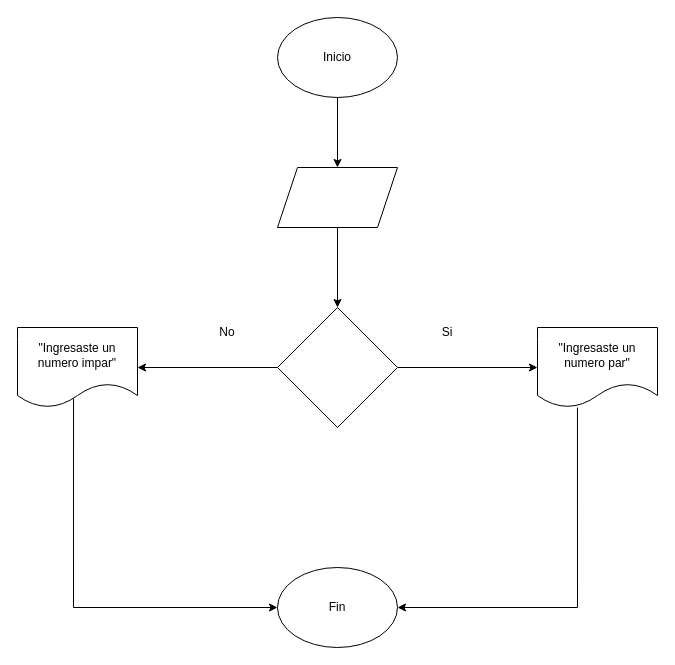
Some shapes in this 675 by 665 pixel diagram are drawn without their labels. The shapes that lost their labels are listed below. From the top down, each one's box as (x1, y1, x2, y2) in pixels, then its label:
(276, 166, 398, 228): Numero
(276, 306, 398, 428): Numero mod 2 == 0
